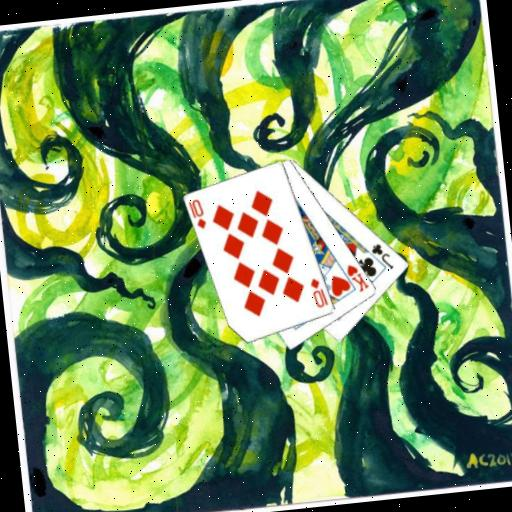10D: (307, 274, 330, 310), (186, 196, 208, 232)
JC: (368, 239, 396, 273)
KH: (344, 260, 372, 295)
